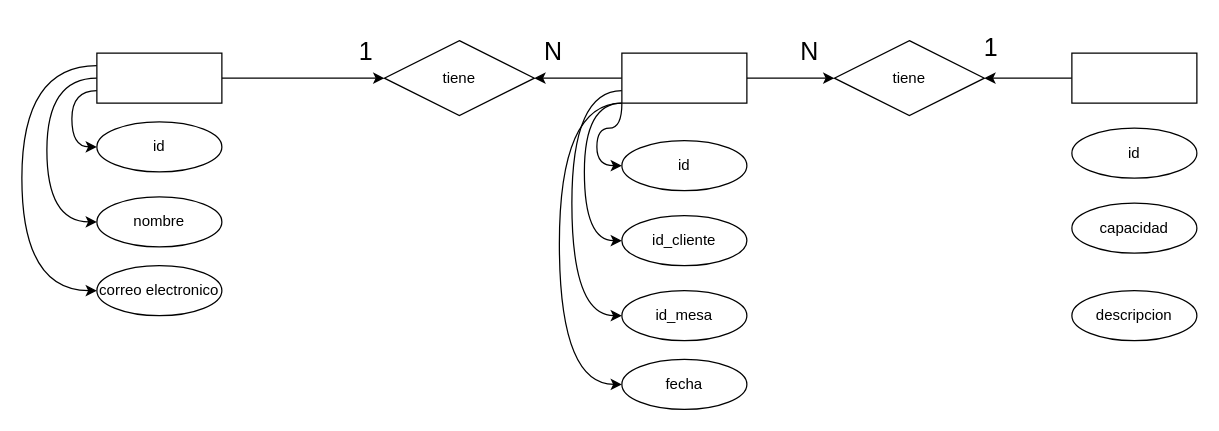
The diagram is 1219 pixels wide and 431 high, and some of its shapes have lost their labels. The centre of each missing label's shape, as x and y in pixels:
"clientes" goes at point (159, 77).
"mesas" goes at point (1134, 77).
"reservas" goes at point (684, 77).
